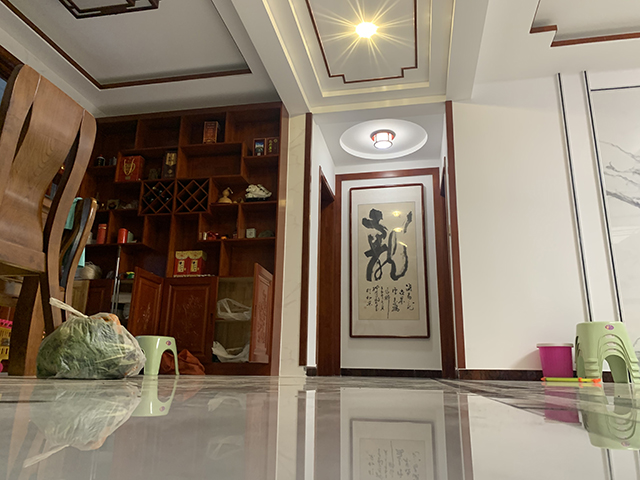cabinet: (164, 263, 290, 376)
stool: (1, 63, 98, 337), (574, 321, 640, 385), (136, 335, 179, 376)
trashcan: (536, 342, 573, 377)
